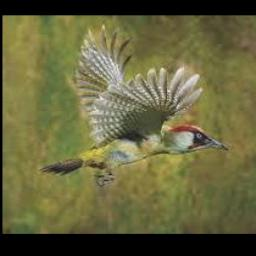Woodpecker: (38, 24, 229, 186)
